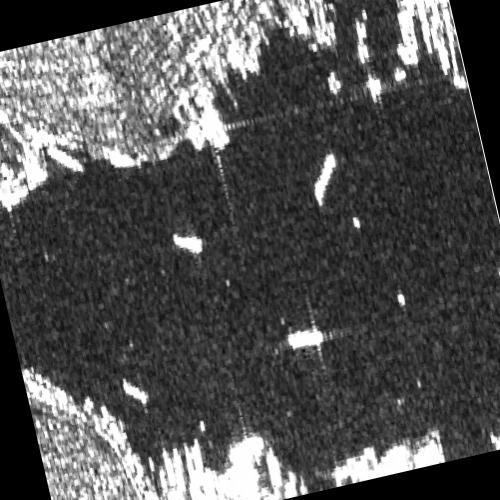ship: (313, 150, 337, 205), (47, 142, 84, 171), (288, 328, 323, 350), (171, 232, 203, 254), (121, 379, 148, 405), (171, 448, 186, 493), (161, 446, 176, 488), (181, 441, 196, 479), (191, 437, 204, 475), (157, 464, 169, 498)
